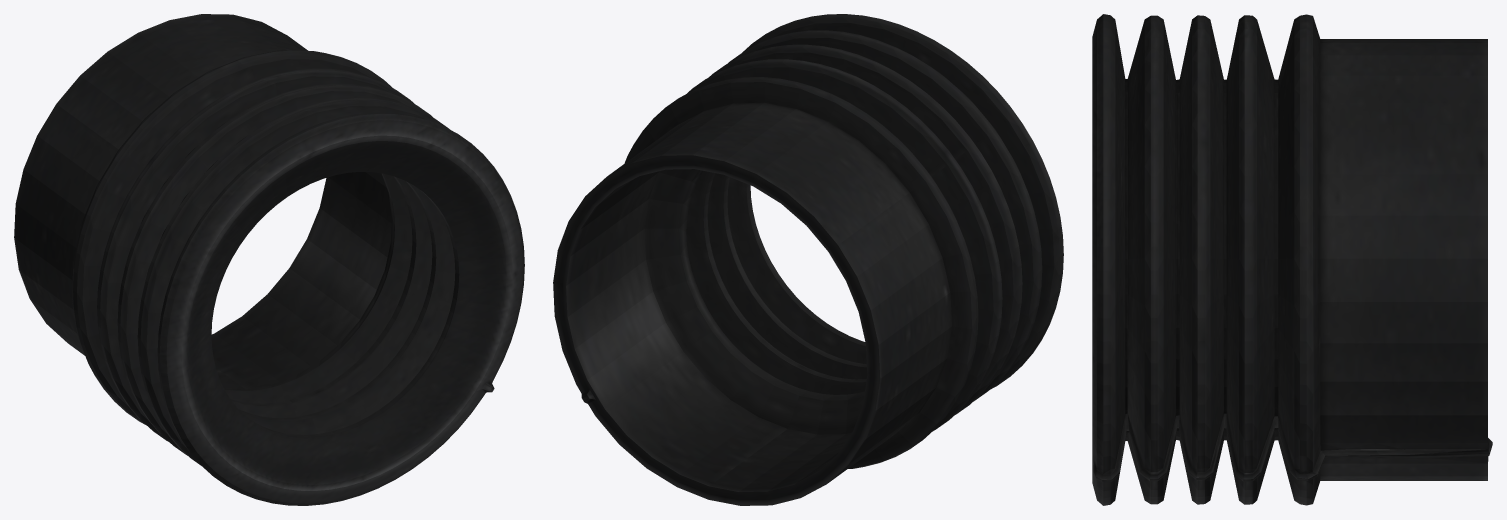
3 views of the same model, side by side, from view 1: azimuth 30°, elevation 25°; view 2: azimuth 150°, elevation 25°; view 3: azimuth 270°, elevation 25° (orthographic). The views are drawn at different scales.
Visible parts, largest first — view 1: TW_67641bec4ad898aa100c1079_PZ_Import; view 2: TW_67641bec4ad898aa100c1079_PZ_Import; view 3: TW_67641bec4ad898aa100c1079_PZ_Import.
Boxes of the visible parts, left/top/right/bottom form: TW_67641bec4ad898aa100c1079_PZ_Import: left=14, top=14, right=524, bottom=505; TW_67641bec4ad898aa100c1079_PZ_Import: left=553, top=14, right=1063, bottom=505; TW_67641bec4ad898aa100c1079_PZ_Import: left=1092, top=14, right=1492, bottom=505.
Bounding box in the file's own units: 0.0302 × 0.0246 × 0.0302.
Materials: 1 (1 with a texture image).
